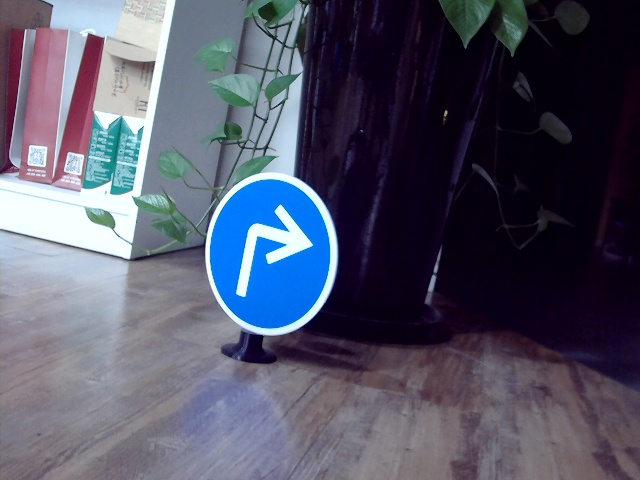turn_right: (229, 197, 312, 301)
